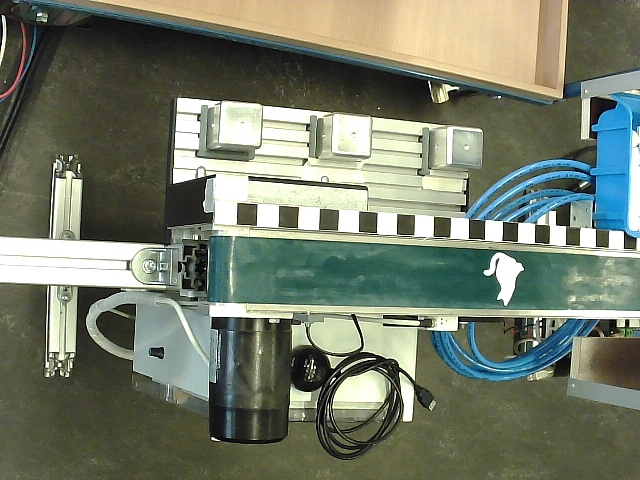cat: (484, 252, 524, 306)
